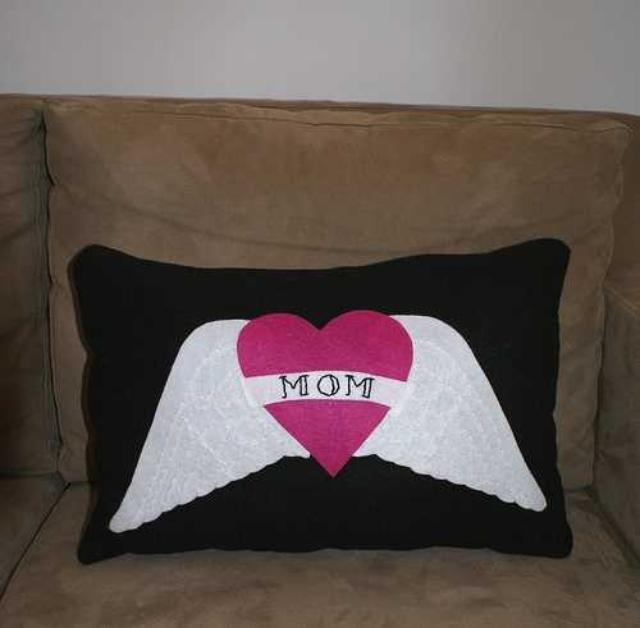pillow: (69, 236, 574, 564)
